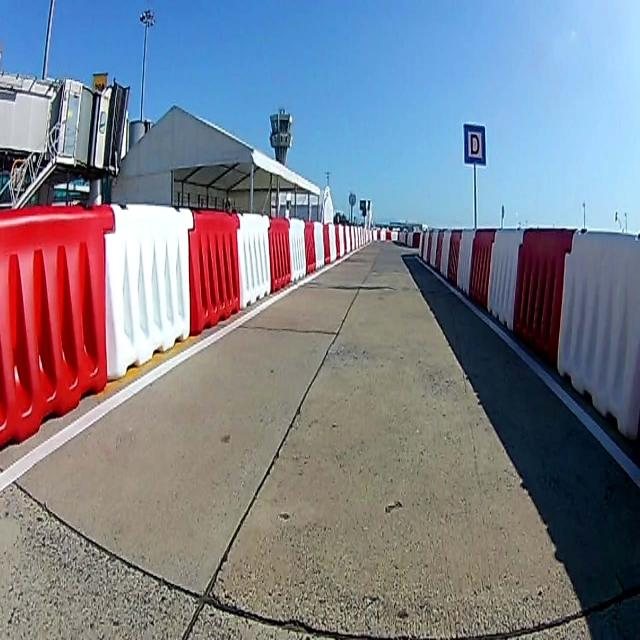durak: (464, 124, 484, 164)
